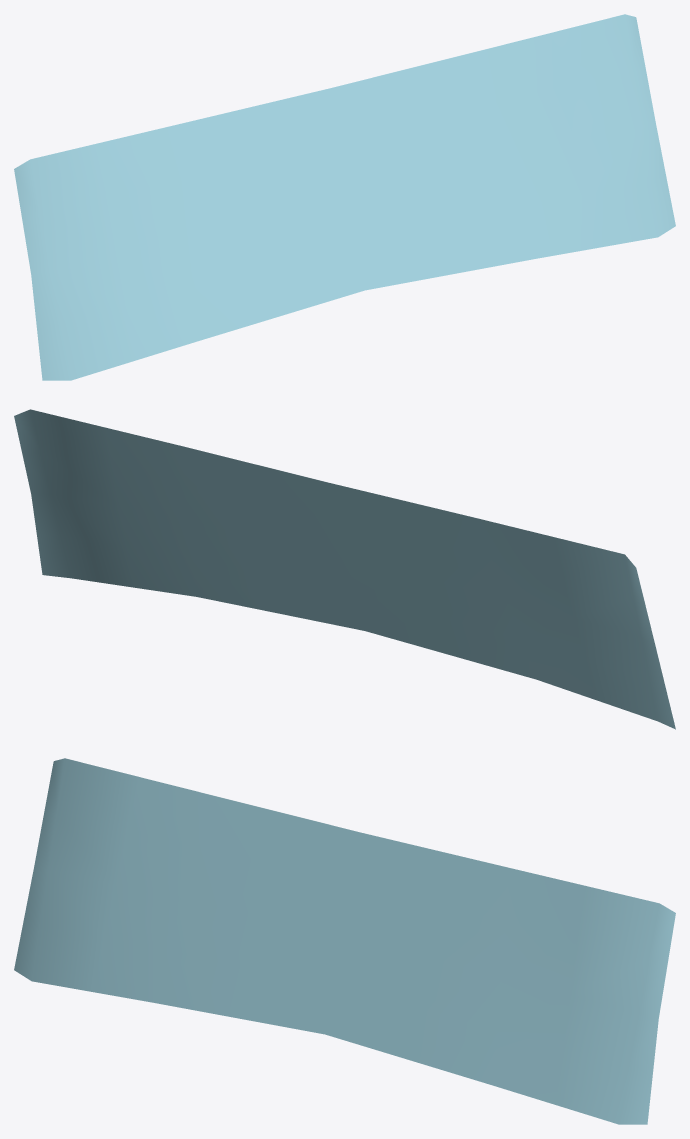
File: Truck_1_Window_F_Tessellate.fbx
3 views of the same model, one above another, from view 1: azimuth 30°, elevation 25°; view 2: azimuth 150°, elevation 25°; view 3: azimuth 330°, elevation 25° (orthographic).
Visible parts, largest first — view 1: Truck_1_Window_F_Tessellate; view 2: Truck_1_Window_F_Tessellate; view 3: Truck_1_Window_F_Tessellate.
Part boxes in pixels (bbox=[...]): Truck_1_Window_F_Tessellate: bbox=[14, 14, 675, 380]; Truck_1_Window_F_Tessellate: bbox=[14, 409, 675, 729]; Truck_1_Window_F_Tessellate: bbox=[14, 758, 675, 1124].
Bounding box in the file's own units: 1819 × 535 × 207.
